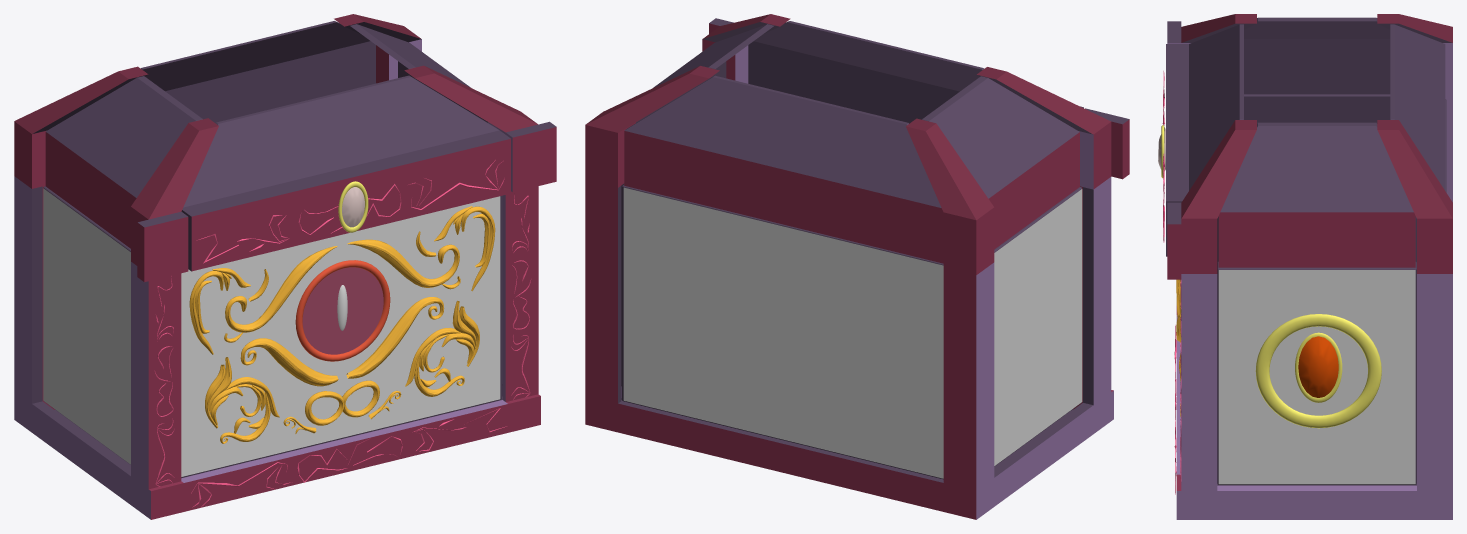
The model's file is pandorasbox2.fbx.
3 views of the same model, side by side, from view 1: azimuth 30°, elevation 25°; view 2: azimuth 150°, elevation 25°; view 3: azimuth 270°, elevation 25° (orthographic).
Parts seen in each view (by area): view 1: Pandora'sBox_Cycle; view 2: Pandora'sBox_Cycle; view 3: Pandora'sBox_Cycle.
Boxes of the visible parts, box(x1,y1,x2,y2) form: Pandora'sBox_Cycle: box(14, 14, 556, 519); Pandora'sBox_Cycle: box(585, 14, 1129, 519); Pandora'sBox_Cycle: box(1158, 14, 1452, 519).
Size of the model in its own units: 354 by 286 by 217.
